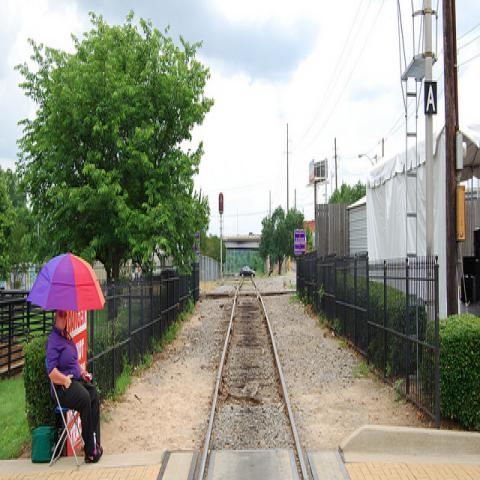car: (240, 265, 256, 276)
